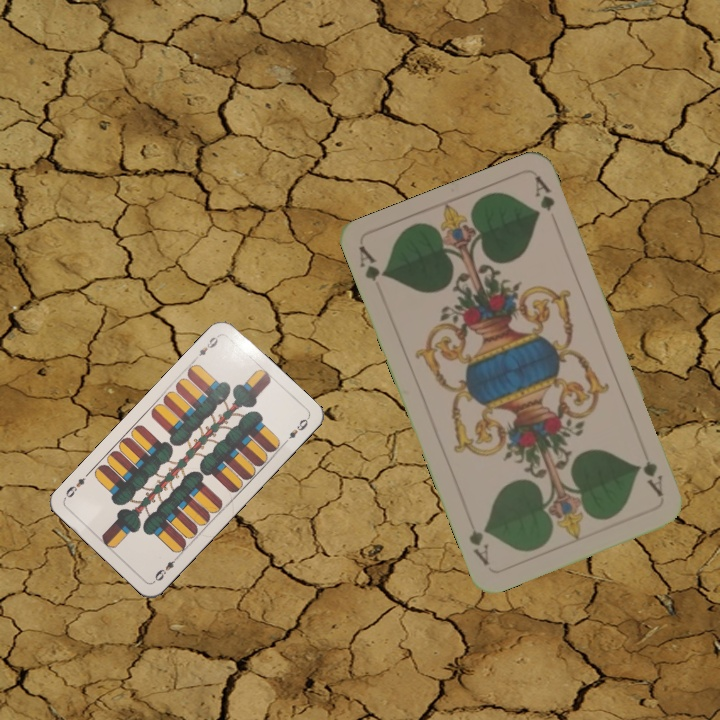E9: (190, 331, 222, 363), (150, 552, 181, 585)
GA: (355, 243, 389, 284), (634, 457, 666, 500)
